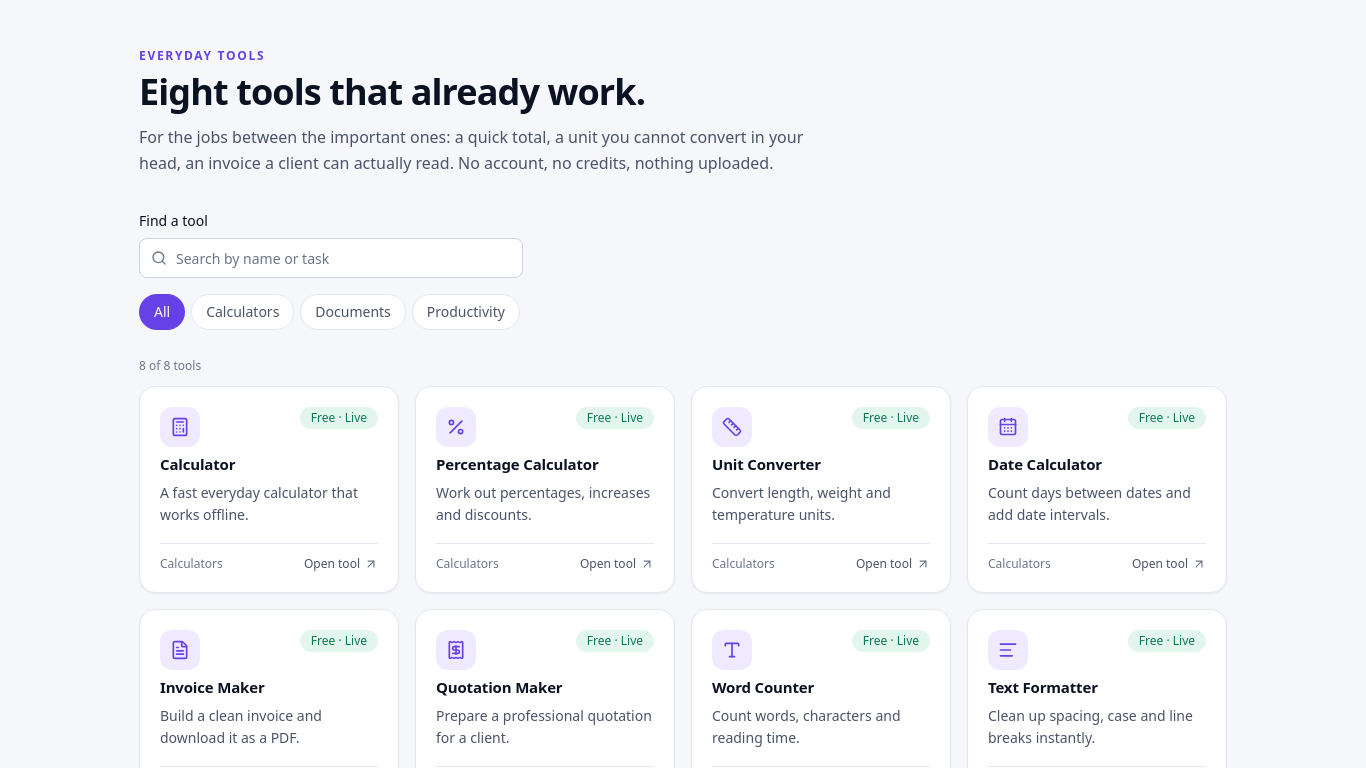
Test: ToolsPage › explains an empty search result
In the search field labelled "Find a tool": (331, 258) top-left (139, 238), bottom-right (523, 278), type "spaceship"
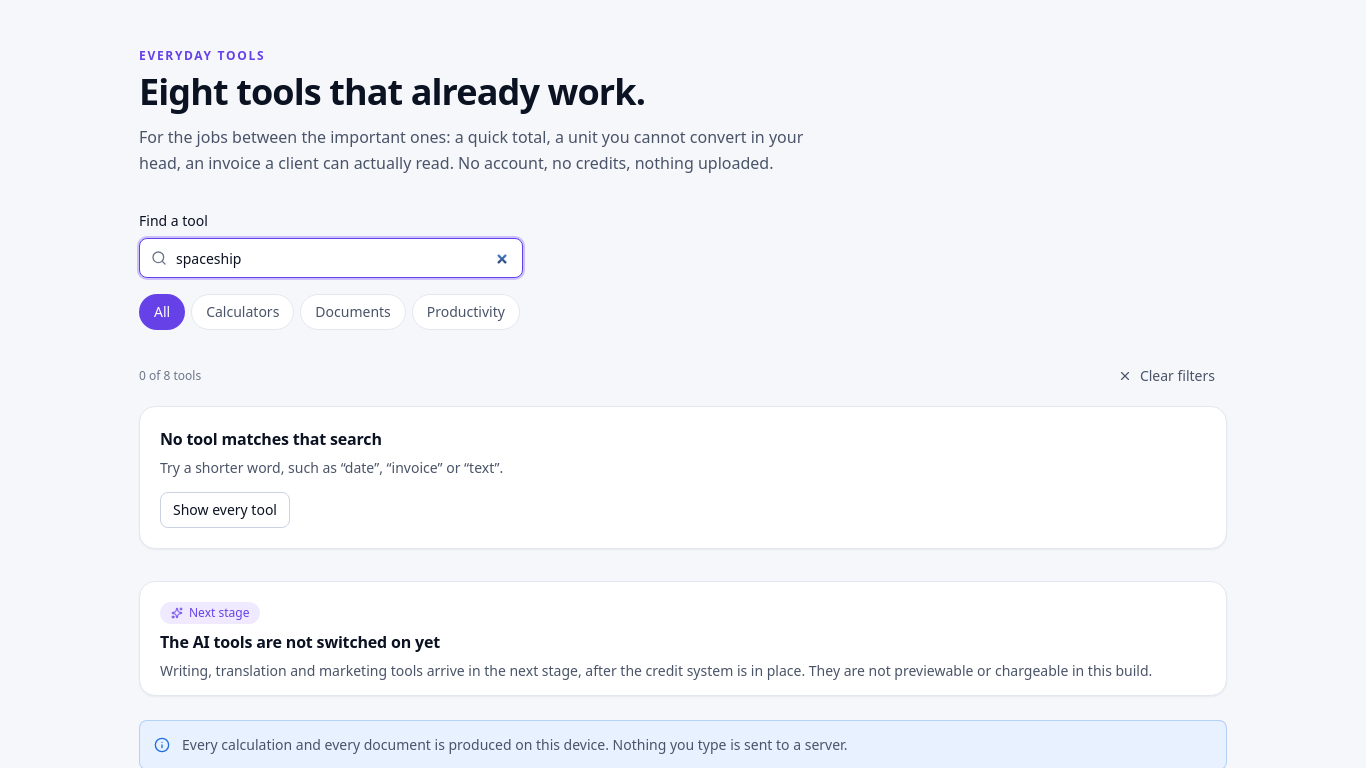
Expected: the heading "No tool matches that search" is shown, top-left (160, 428), bottom-right (382, 450)
